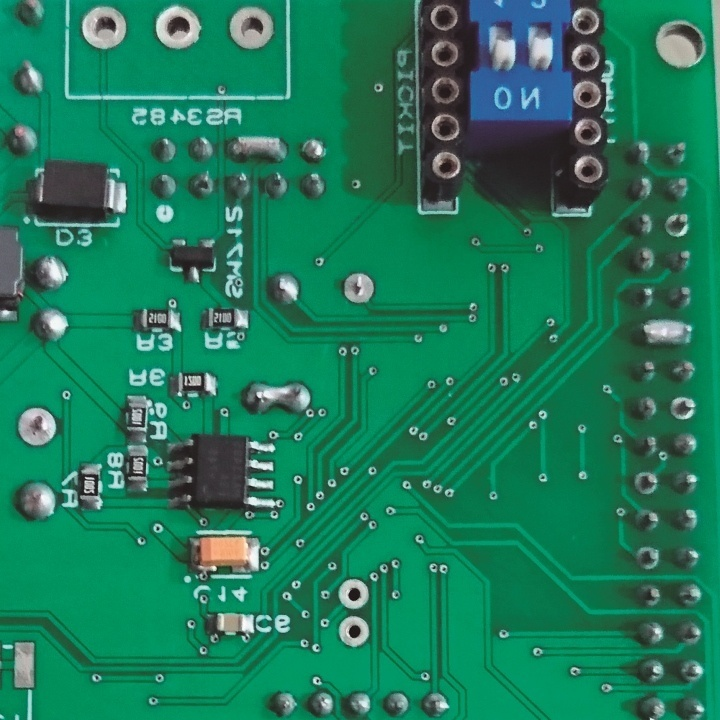F: (78, 4, 130, 55), (152, 3, 202, 52), (227, 6, 277, 52), (13, 405, 62, 449), (341, 269, 380, 308), (334, 615, 374, 649), (336, 578, 370, 612), (664, 211, 695, 241), (670, 396, 697, 423), (636, 543, 661, 571), (634, 472, 659, 498)
P: (241, 378, 316, 418), (222, 132, 292, 168), (635, 315, 696, 349)
